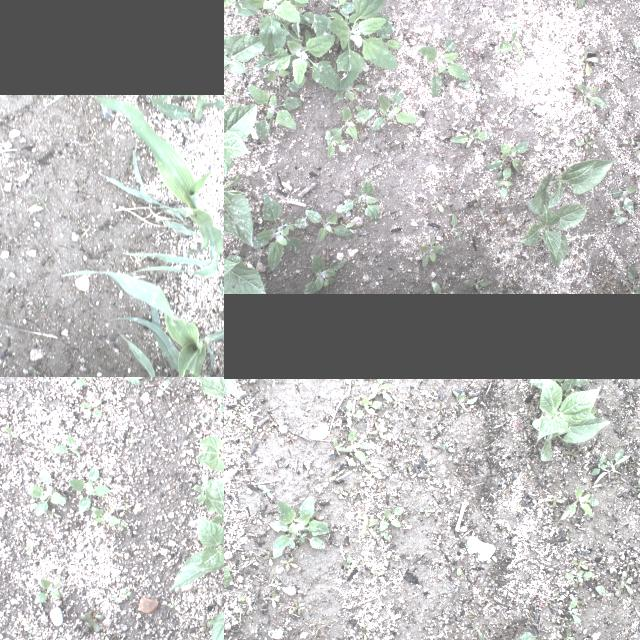crop: (96, 99, 224, 278), (64, 269, 224, 377), (522, 158, 612, 268), (530, 379, 610, 461), (153, 94, 224, 154), (171, 519, 224, 589), (182, 566, 224, 640), (224, 153, 254, 247), (224, 103, 257, 181), (224, 32, 269, 84), (189, 377, 224, 439), (224, 245, 265, 293), (194, 433, 224, 473), (224, 607, 257, 640), (205, 478, 224, 529), (224, 378, 238, 396)
weed: (311, 0, 402, 91), (252, 33, 346, 91), (235, 0, 328, 54), (252, 192, 308, 270), (266, 494, 330, 558), (247, 83, 306, 141), (417, 35, 471, 97), (68, 464, 114, 514), (28, 466, 68, 518), (369, 88, 418, 130), (335, 178, 383, 220), (327, 105, 377, 142), (304, 208, 354, 244), (302, 253, 346, 293), (485, 140, 529, 173), (590, 448, 630, 484), (559, 486, 599, 520), (342, 426, 376, 462), (612, 176, 638, 217), (76, 388, 105, 422), (49, 430, 81, 460), (32, 576, 62, 606), (572, 42, 598, 76), (450, 126, 490, 148), (91, 507, 131, 528), (355, 392, 383, 422), (419, 236, 445, 268), (496, 20, 522, 52), (333, 81, 369, 102), (576, 82, 606, 106), (81, 611, 107, 637), (493, 166, 512, 200), (378, 507, 404, 531), (326, 130, 348, 158), (452, 389, 480, 409), (358, 512, 378, 538), (618, 569, 636, 595), (626, 131, 640, 163), (32, 192, 52, 214), (626, 264, 640, 294), (196, 473, 210, 503), (344, 398, 358, 428), (110, 586, 132, 604), (464, 276, 492, 290), (562, 570, 594, 582), (376, 378, 394, 399), (332, 434, 348, 456), (570, 558, 592, 574), (363, 462, 382, 480), (632, 37, 640, 79), (568, 596, 580, 624), (542, 492, 566, 506), (458, 81, 488, 92), (68, 377, 93, 390), (2, 421, 20, 439), (565, 82, 585, 98), (230, 594, 246, 614), (369, 568, 388, 584), (576, 133, 594, 149), (612, 207, 628, 225), (266, 68, 290, 80), (290, 599, 306, 617), (258, 484, 274, 501), (342, 557, 358, 573), (158, 378, 172, 396), (266, 590, 280, 608), (280, 556, 298, 570), (450, 213, 460, 237), (224, 81, 237, 99), (622, 556, 636, 572), (224, 410, 237, 427), (25, 365, 43, 377), (340, 220, 358, 232), (595, 584, 613, 596), (121, 377, 141, 387), (430, 198, 444, 212), (561, 627, 576, 640), (356, 105, 372, 117), (392, 392, 404, 408), (262, 552, 278, 564), (432, 280, 446, 292), (436, 402, 446, 418), (23, 542, 34, 556), (439, 443, 455, 452), (418, 400, 436, 408), (432, 149, 446, 159), (634, 480, 640, 502), (124, 436, 140, 444), (358, 198, 367, 212), (87, 558, 97, 570), (412, 127, 420, 141), (123, 498, 131, 512), (569, 0, 584, 6), (632, 606, 640, 617), (498, 114, 506, 122)
